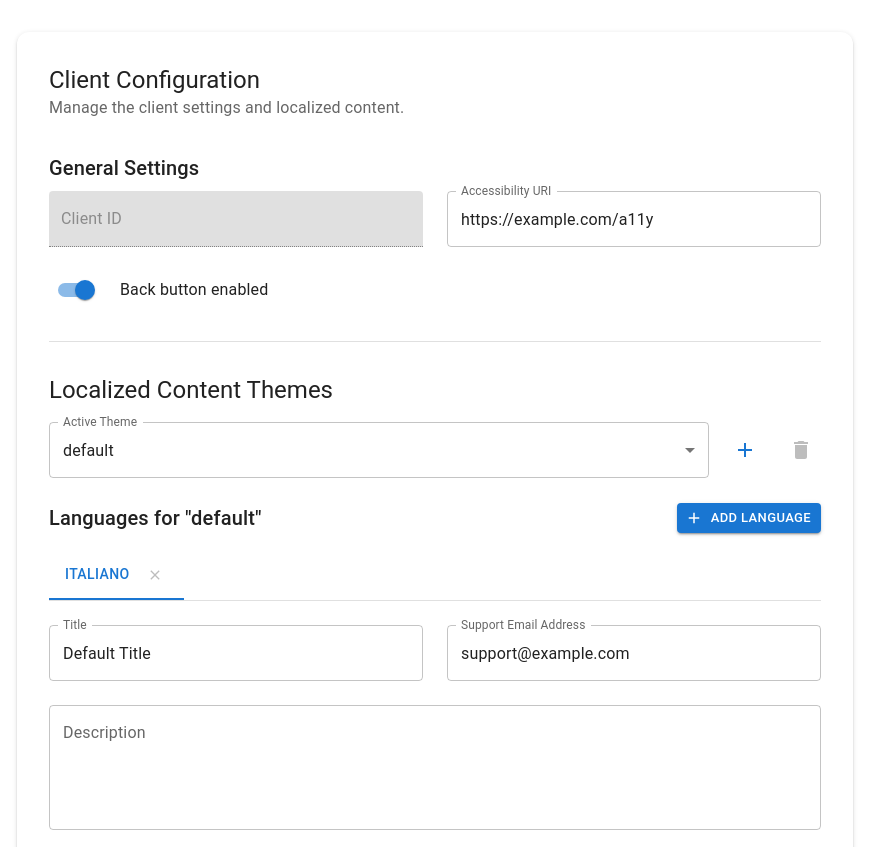
Scenario: Refactored ReservedAreaForm Component › should switch theme and update the LocalizedContentEditor
The width and height of the screenshot is (871, 847).
What coordinates should you click on to do the following:
click the dropdown
I would click on:
 (88, 450)
Its box is 63,440 -> 114,460.
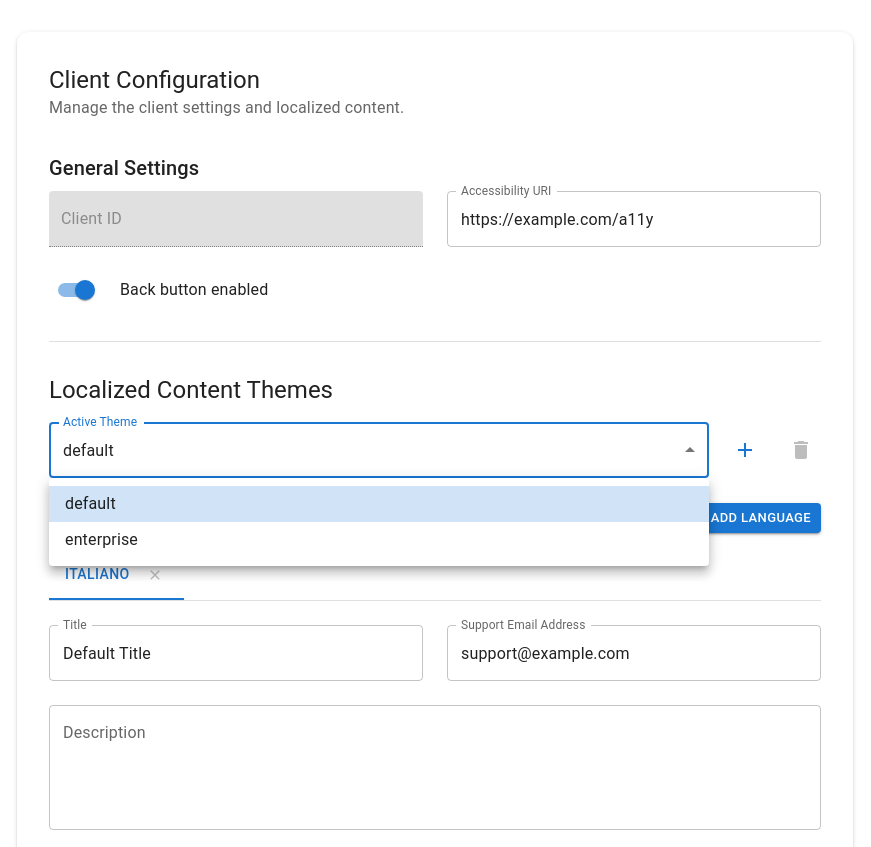
What coordinates should you click on to do the following:
click the option "enterprise"
I would click on:
 (102, 540)
Its box is 65,530 -> 138,549.
(page scrolled)
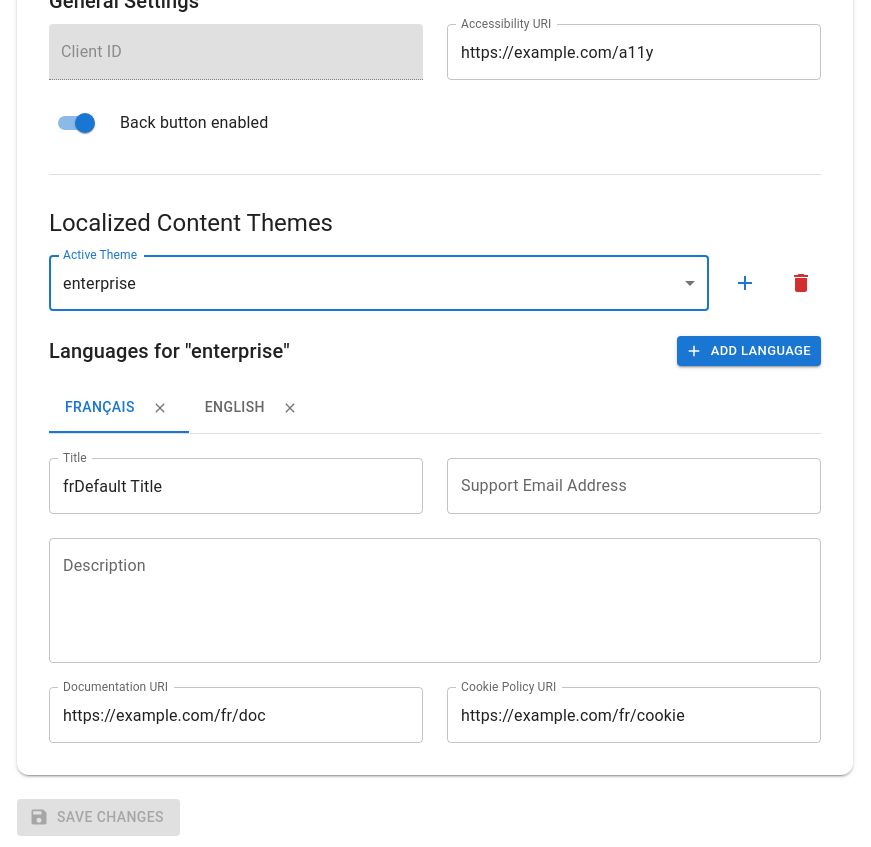
Now the element with test id "theme-select" reads "enterprise", box 63,274 -> 136,292
Now the tab "Italiano" is gone
Now the tab "Français" is shown, box 49,383 -> 189,433
